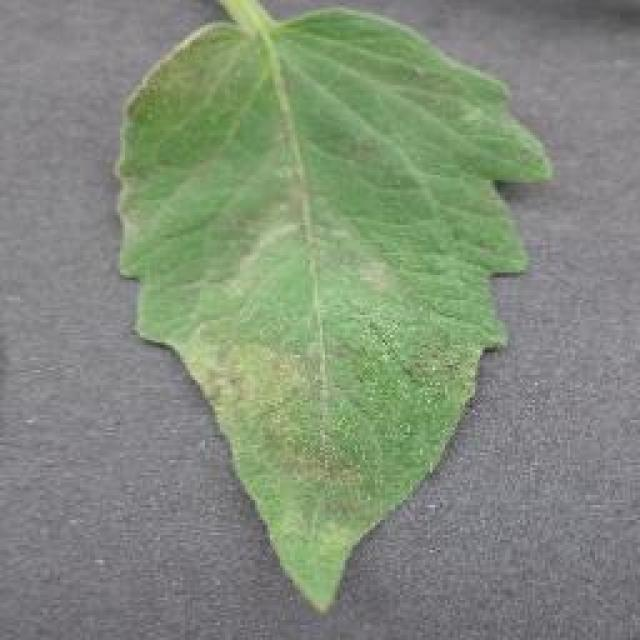Tomato late blight leaf: (113, 10, 557, 615)
